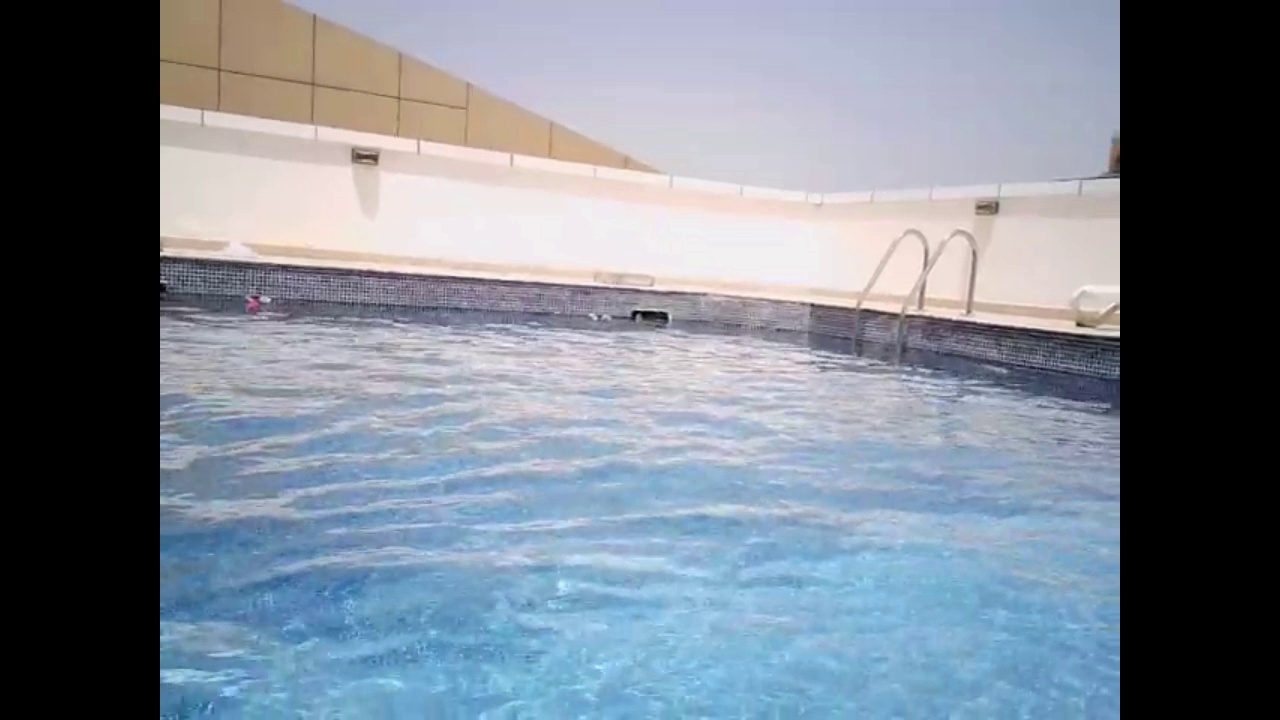debris: (242, 291, 262, 314), (250, 290, 272, 309), (596, 311, 618, 326), (585, 309, 602, 325), (630, 312, 645, 325)
